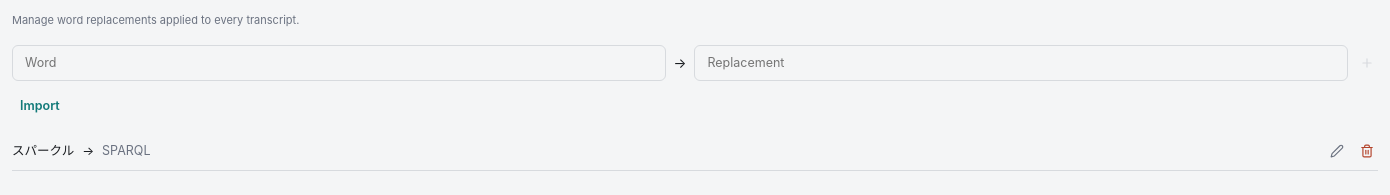
Test: DictionarySection › cancelling an edit discards the in-progress change
Expected: the text "スパークル" is shown, [12,142,74,160]
Click the button named "Edit entry".
click(1337, 151)  # box [1326,140,1348,162]
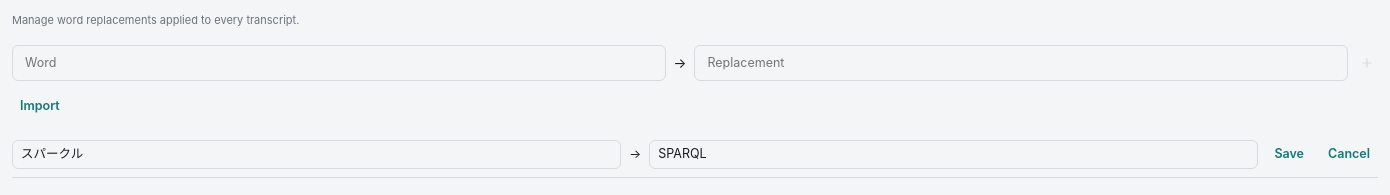
Click the button "Cancel".
click(1349, 154)  # box [1320,141,1378,168]
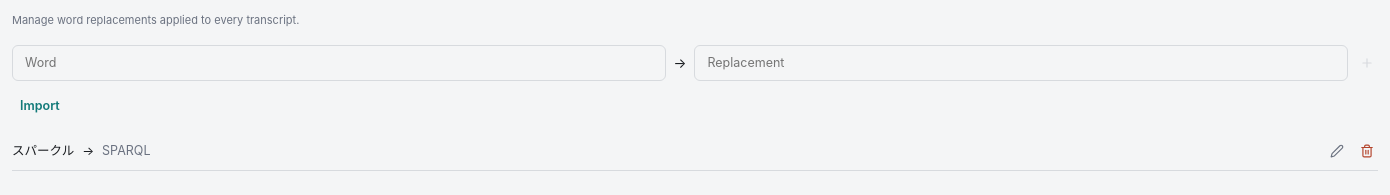
Expected: the text "SPARQL" is shown, [102,143,150,158]
